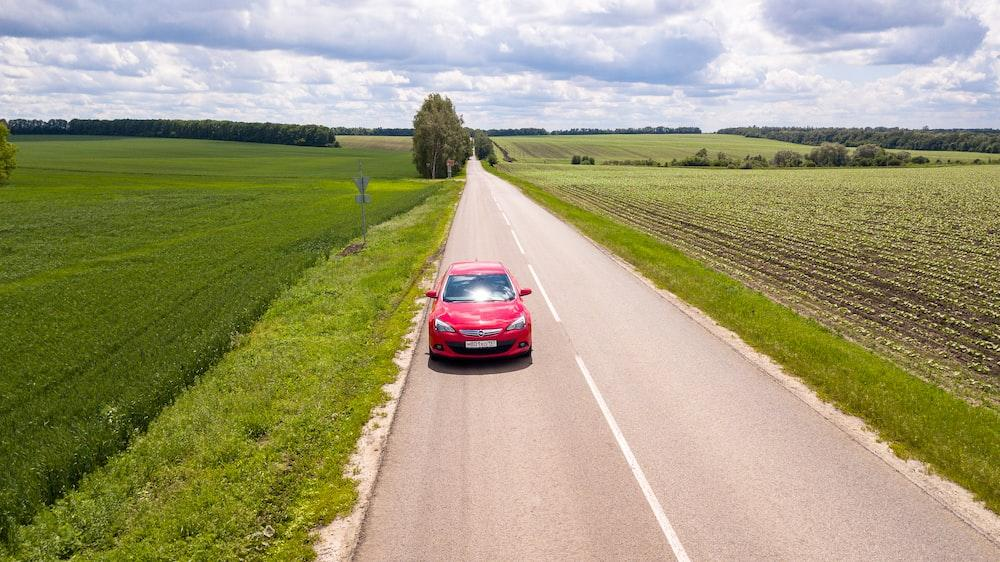LightVehicle: (427, 258, 537, 365)
